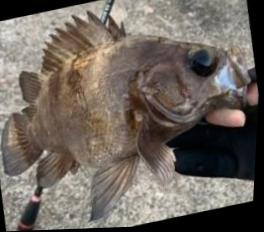fish: (2, 11, 253, 225)
